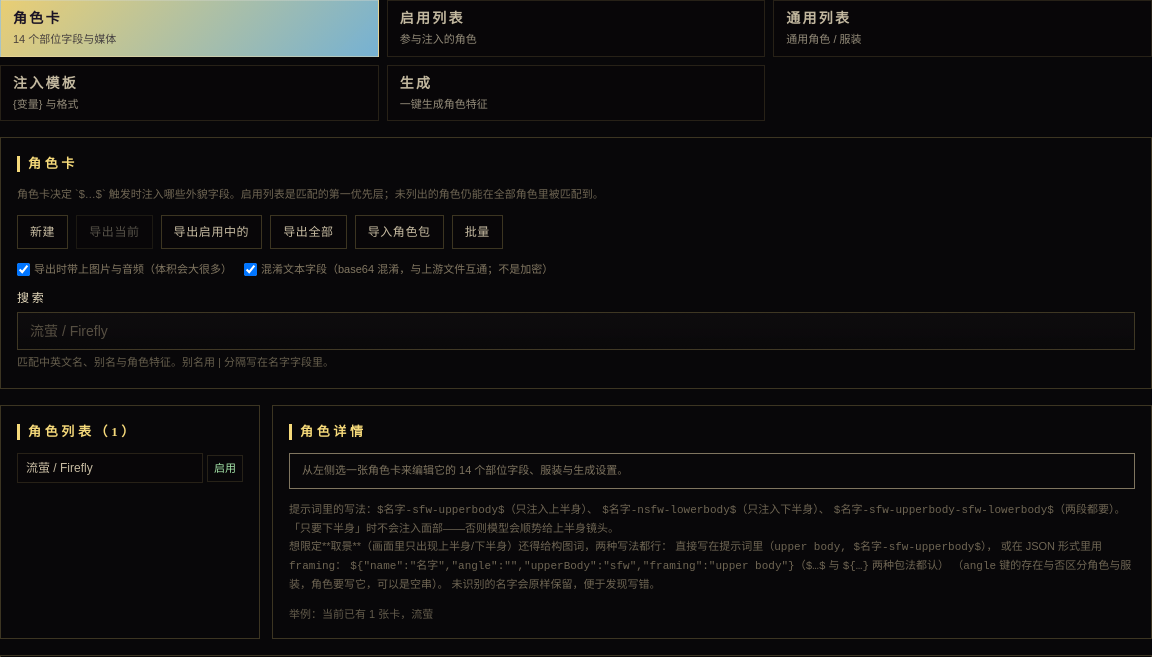
Test: 角色管理面板 › 开关关着时回执必须明说「服装没有写入」（以前只字不提）
Click the button "生成 一键生成角色特征".
click(416, 83)  # box [387, 64, 765, 121]
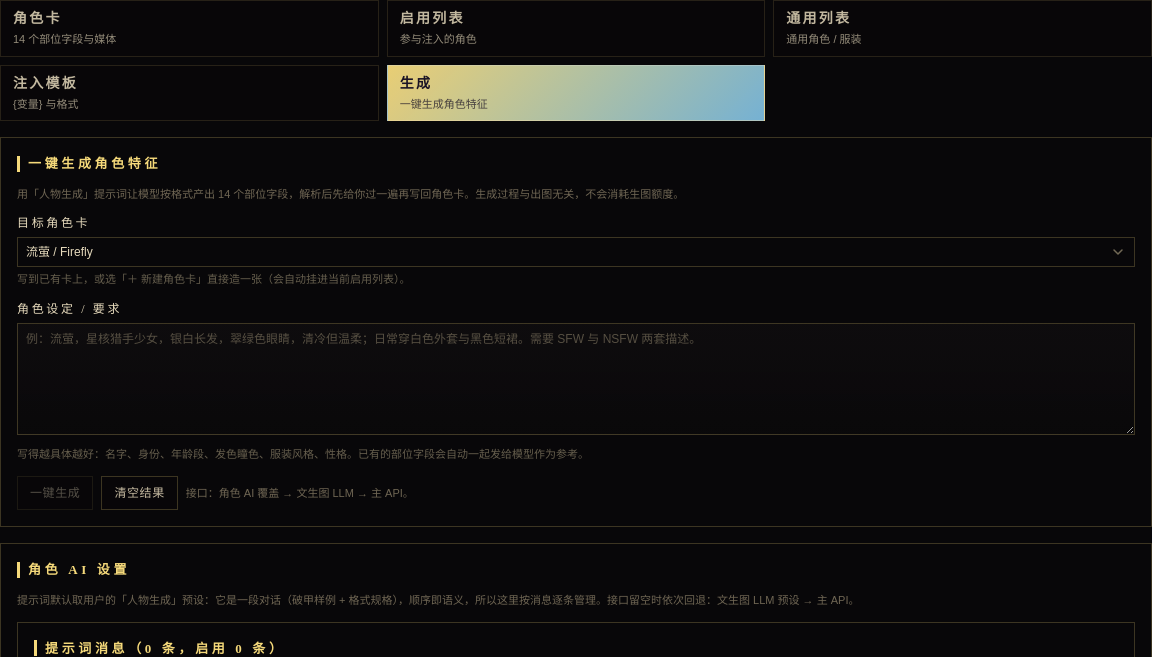
Replace the text in the text box with placeholder "流萤，星核猎手少女" with "流萤" at (576, 379), box [17, 323, 1135, 435]
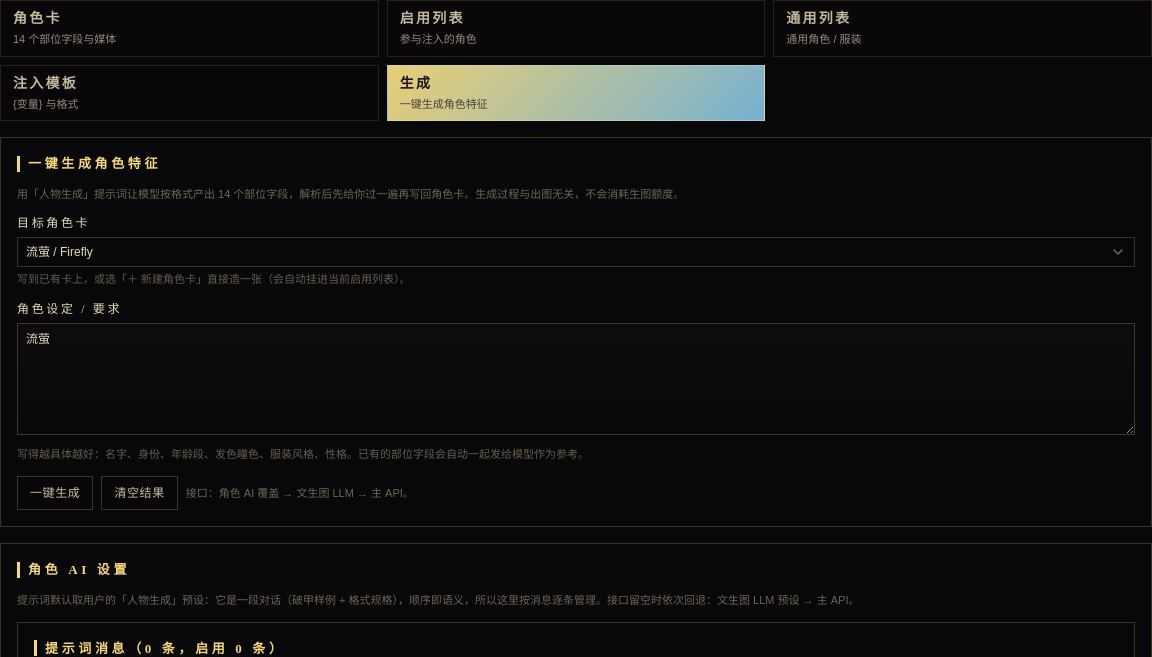
Click the button "一键生成".
click(55, 493)  # box [17, 476, 93, 510]
(page scrolled)
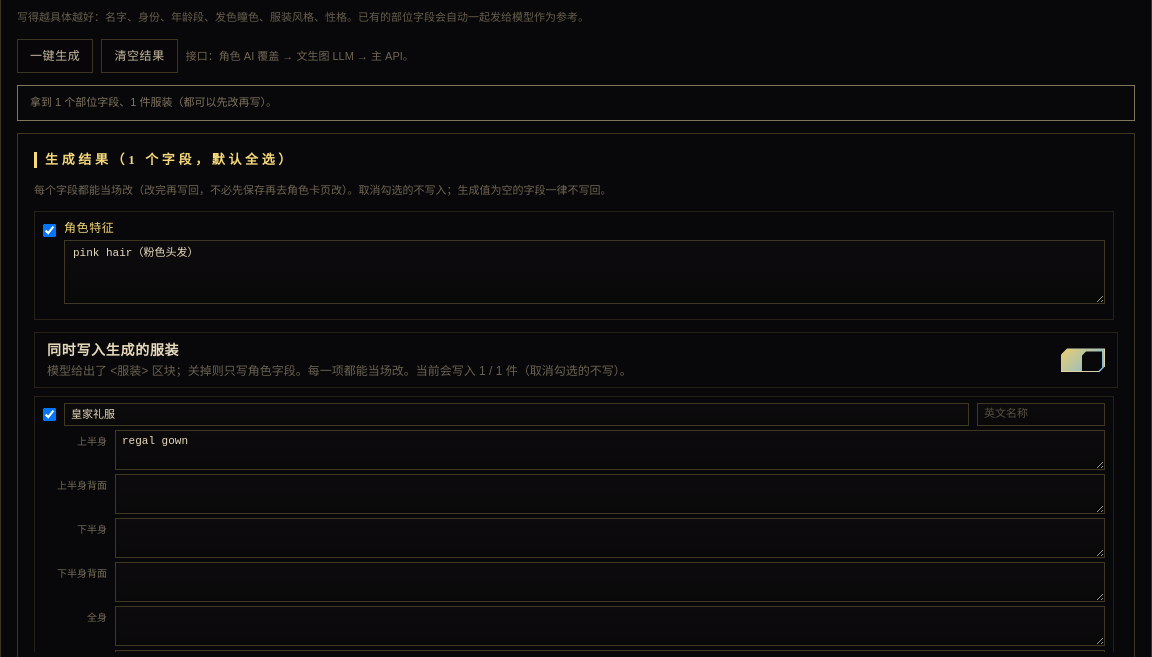
Now the text box showing "pink hair（粉色头发）" is shown, box [64, 240, 1105, 304]
关掉「同时写入生成的服装」（开关的无障碍名称就是它的标题）。
Click the button named "同时写入生成的服装".
click(1083, 360)  # box [1061, 348, 1105, 372]
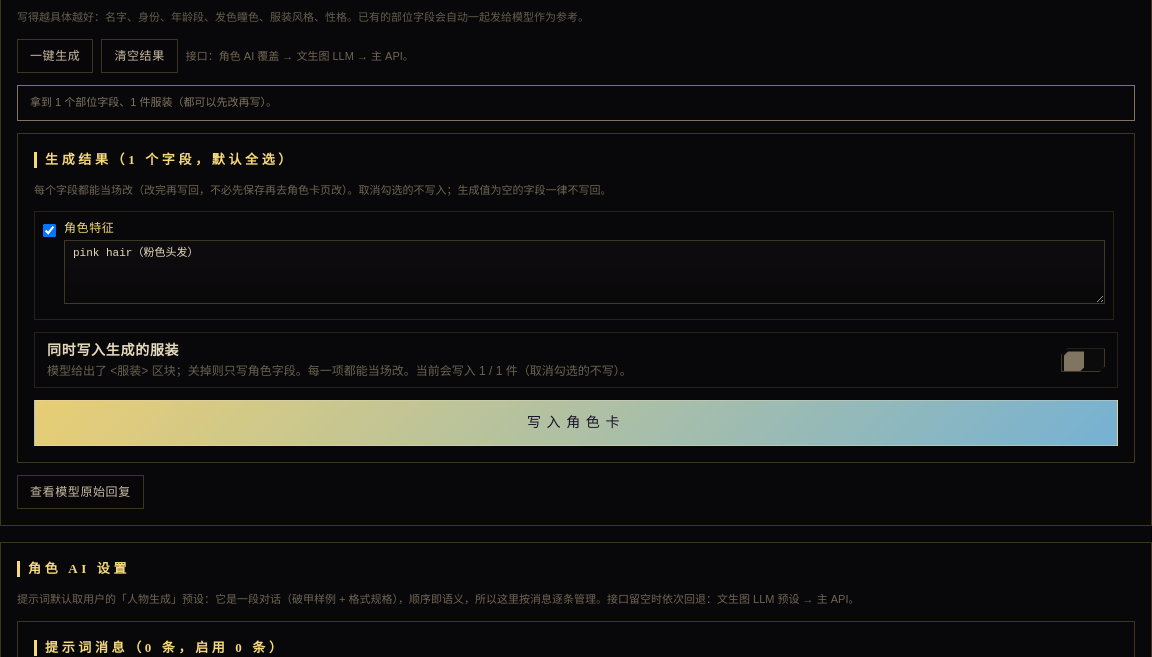
Click the button "写入角色卡".
click(576, 423)  # box [34, 400, 1118, 446]
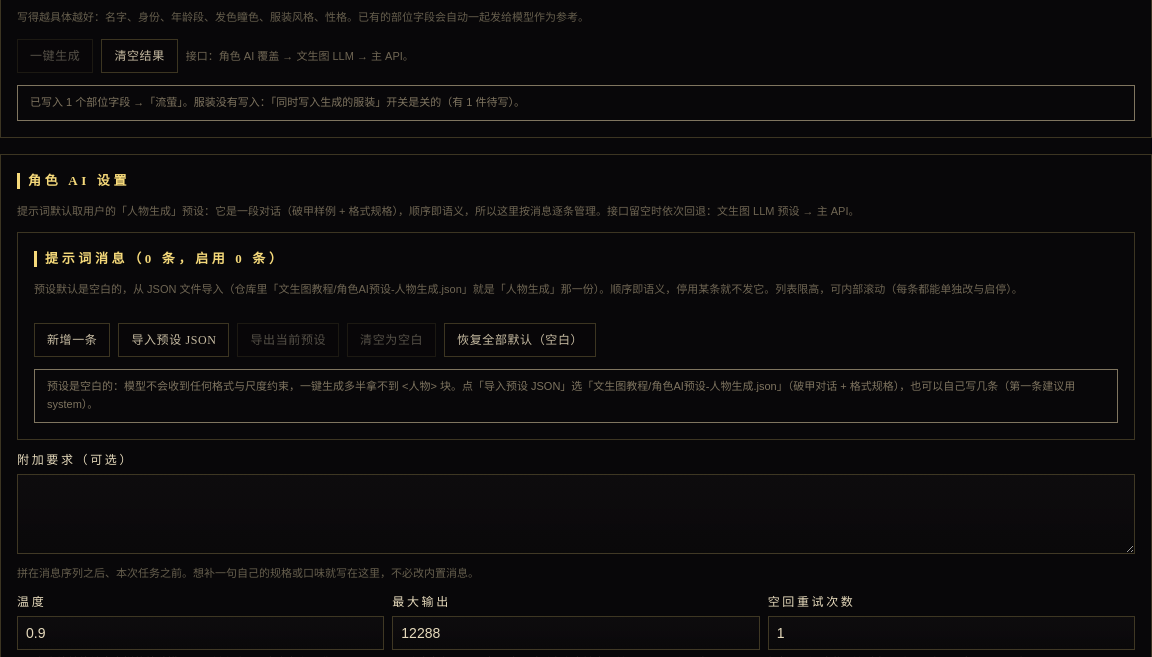
Now the text "已写入 1 个部位字段 →「流萤」。服装没有写入：「同时写入生成的服装」开关是关的（有 1 件待写）。" is shown, box [17, 85, 1135, 121]
